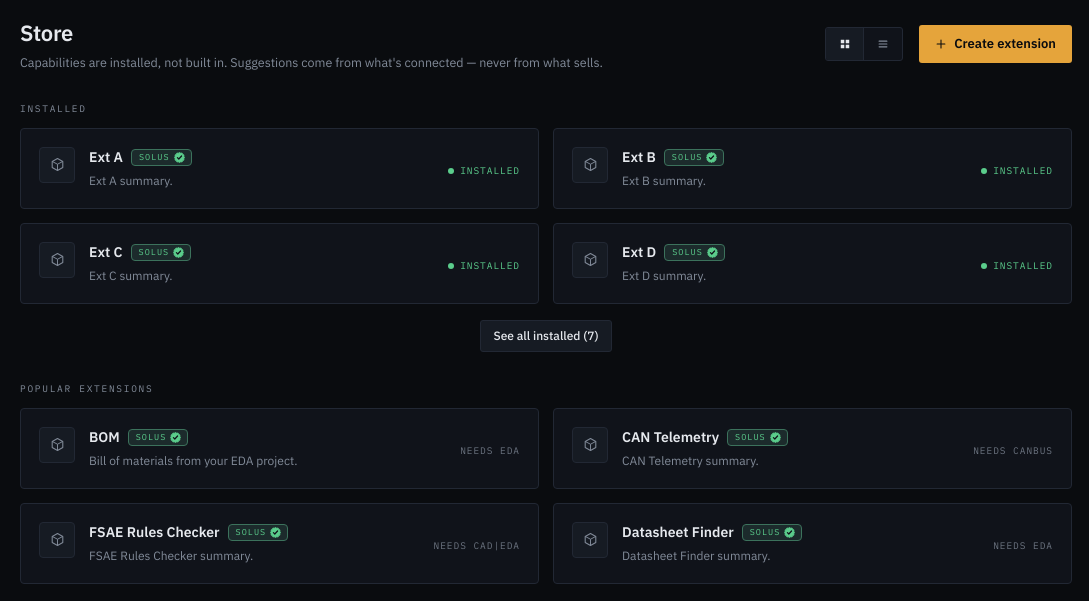
Test: StoreScreen › opens an extension in detail, fetching its manifest, and returns to the catalog
Expected: the element with test id "store-installed" is shown, x1=20 y1=128 x2=1072 y2=304
Click the button with aria-label "Open BOM" at (57, 445), box x1=20 y1=408 x2=539 y2=489
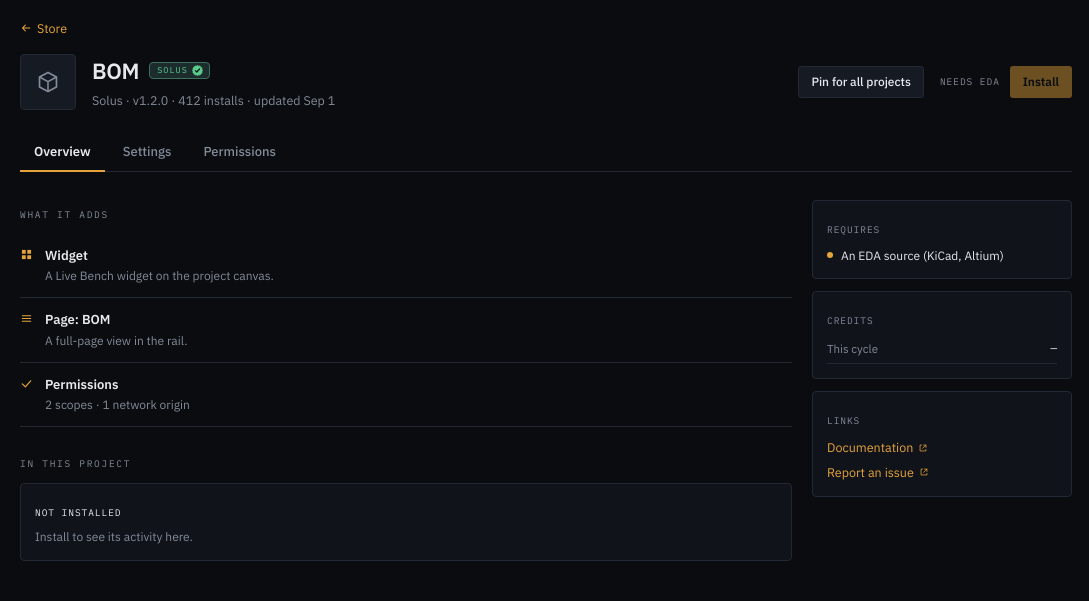
Expected: the heading "BOM" is shown, x1=92 y1=54 x2=139 y2=87
Click the tab "Permissions" at (240, 153), box x1=190 y1=134 x2=290 y2=172
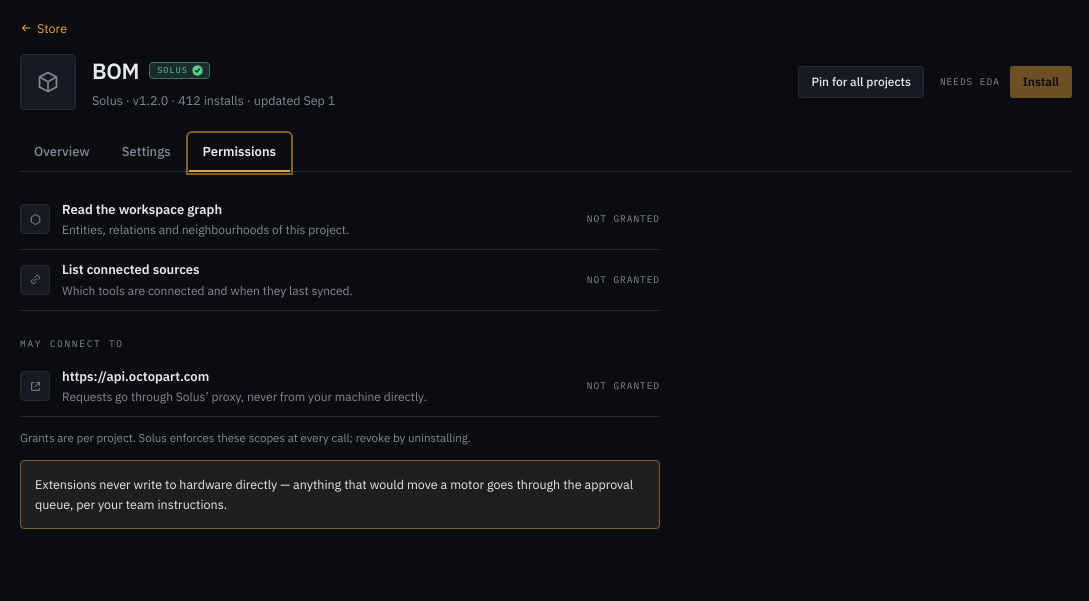
Expected: the text "Read the workspace graph" is shown, x1=62 y1=200 x2=222 y2=218
Click the button with aria-label "Back to Store" at (44, 28), box x1=16 y1=17 x2=71 y2=39
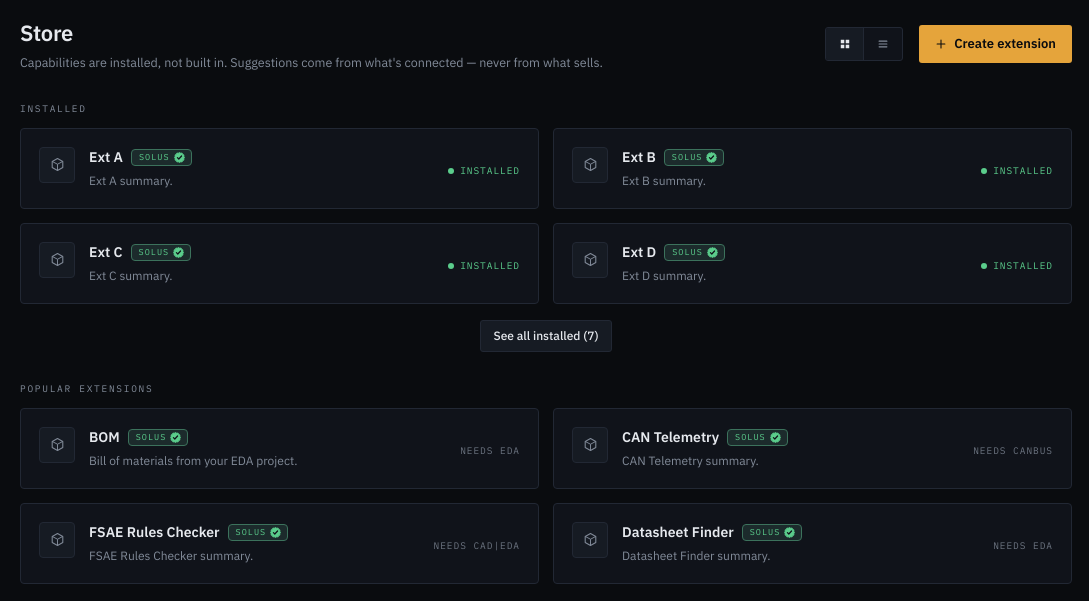
Expected: the heading "Store" is shown, x1=20 y1=18 x2=73 y2=47
